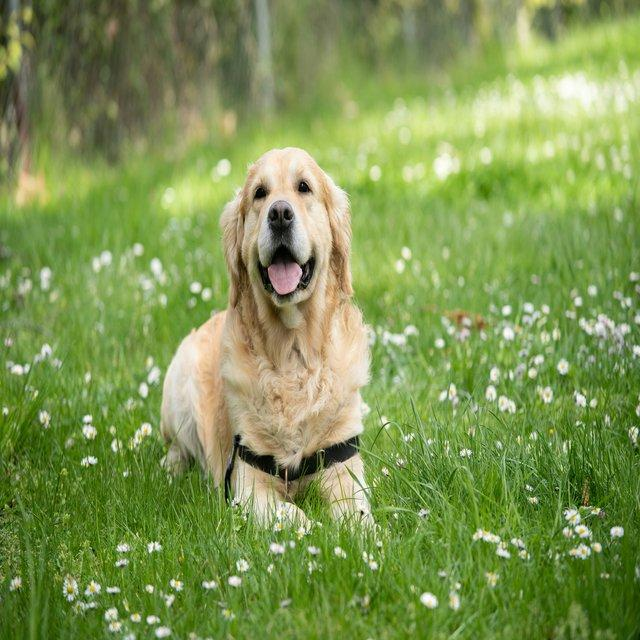retriever: (158, 145, 378, 539)
